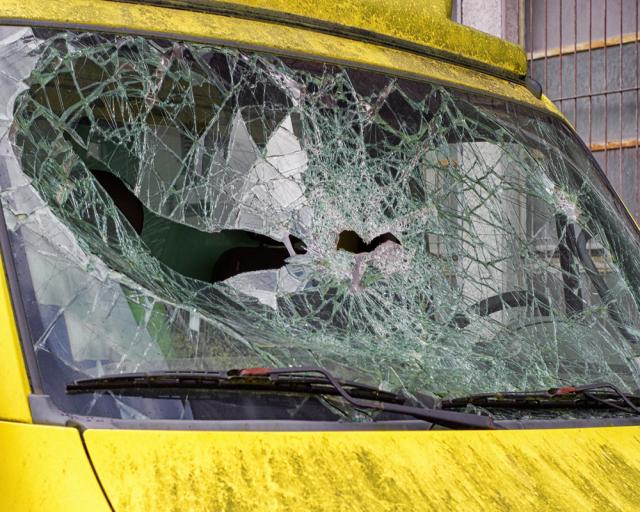glass shatter: (0, 25, 640, 420)
